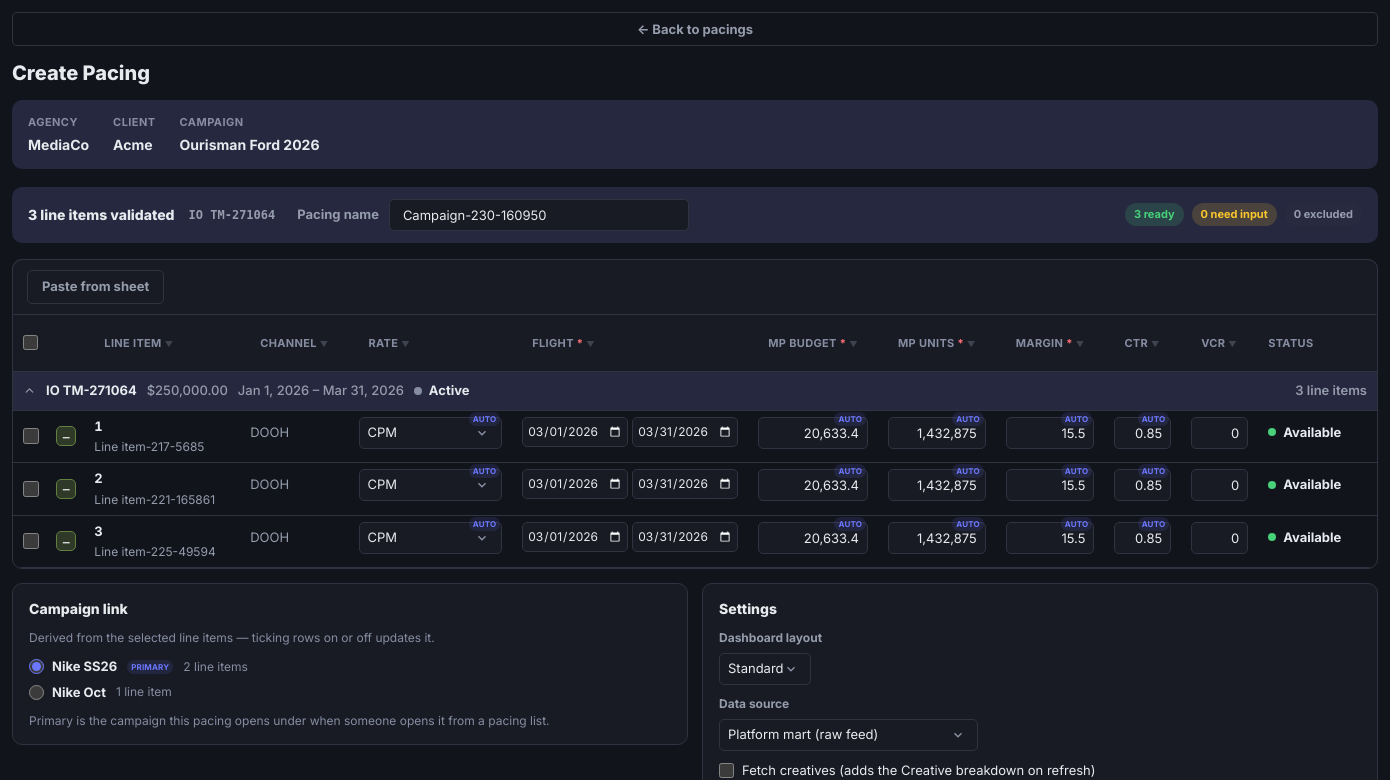
Test: CreatePacingPanel › derives the campaign set from the SELECTED rows, recomputing as rows are ticked (§3)
The width and height of the screenshot is (1390, 780).
Expected: the heading "Campaign link" is shown, [29, 600, 128, 617]
Expected: the text "Nike SS26" is shown, [52, 657, 117, 676]
# unticking the only line item of the second campaign...
Click the button named "Include line item 3": (66, 541) [56, 531, 76, 551]
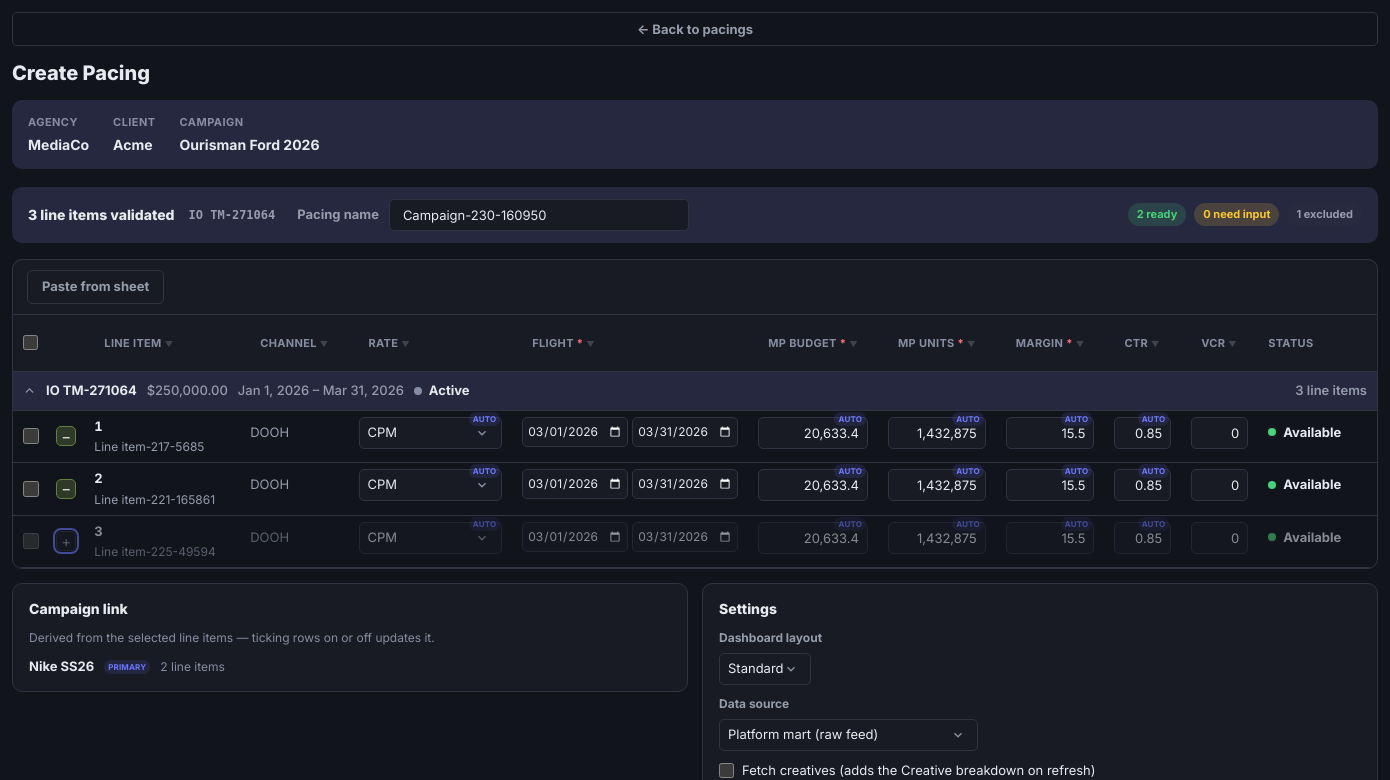
Expected: the text "Nike SS26" is shown, [29, 657, 94, 676]
Expected: the text "Nike Oct" is gone
